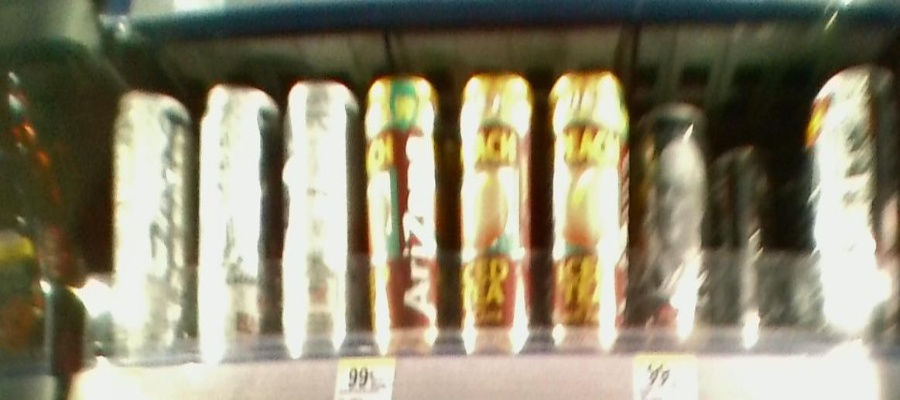bottle: (806, 62, 898, 372), (541, 59, 633, 358), (360, 69, 443, 382), (450, 54, 535, 358), (106, 76, 189, 380), (278, 79, 358, 387), (193, 74, 272, 381), (636, 80, 709, 361), (713, 131, 766, 366)
